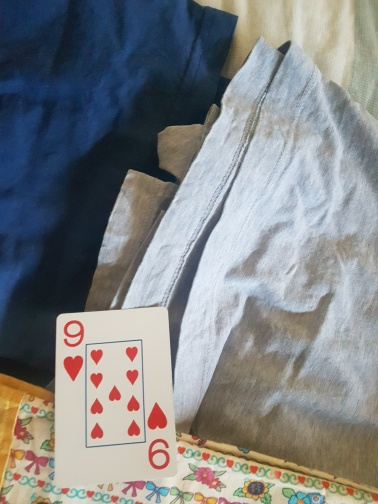nine: (55, 307, 181, 484)
